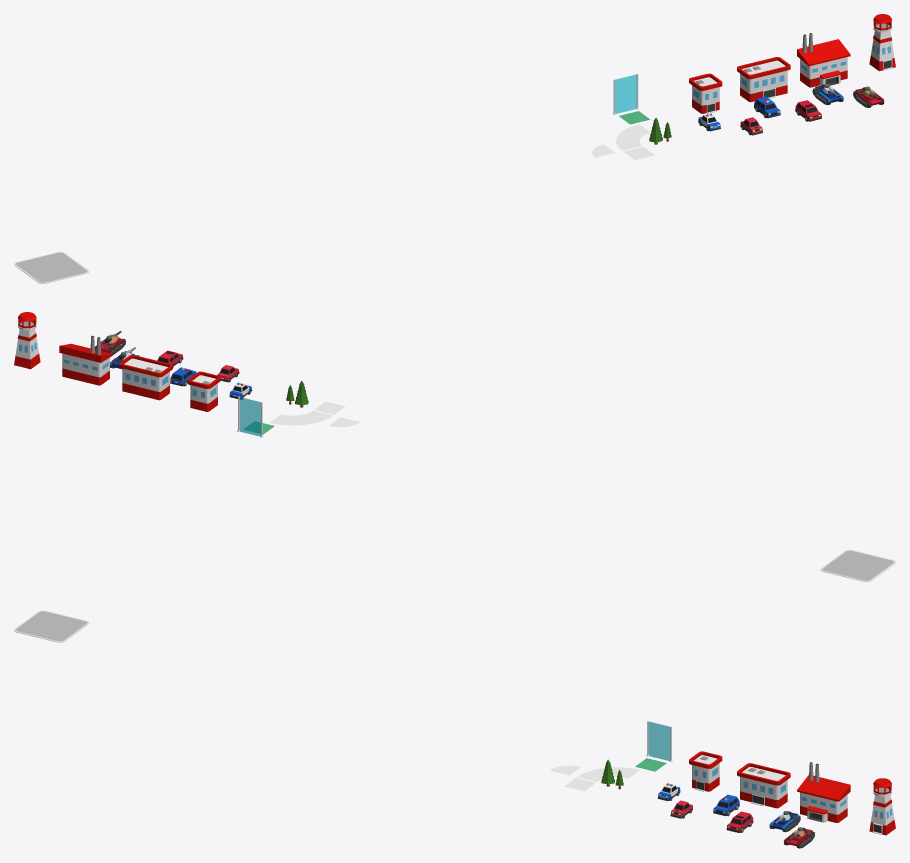
The model's file is Second_Assets.fbx.
3 renders of one model, top to bottom at view 1: azimuth 30°, elevation 25°; view 2: azimuth 150°, elevation 25°; view 3: azimuth 330°, elevation 25°, orthographic.
Parts seen in each view (by area): view 1: Building3, Building2, Base, Building4, Building1, Gate, Road.curve; view 2: Building2, Building3, Base, Building4, Building1, Gate, Road.curve; view 3: Building3, Building2, Base, Building4, Building1, Gate.
Part boxes in pixels (left/top/right/bottom): Building3: left=797, top=33, right=850, bottom=87; Building2: left=737, top=57, right=790, bottom=102; Base: left=14, top=251, right=89, bottom=283; Building4: left=869, top=14, right=895, bottom=71; Building1: left=689, top=73, right=722, bottom=113; Gate: left=613, top=73, right=638, bottom=114; Road.curve: left=616, top=124, right=650, bottom=150; Building2: left=119, top=355, right=172, bottom=400; Building3: left=59, top=335, right=112, bottom=385; Base: left=820, top=549, right=895, bottom=581; Building4: left=14, top=312, right=40, bottom=369; Building1: left=187, top=371, right=220, bottom=411; Gate: left=237, top=396, right=263, bottom=437; Road.curve: left=270, top=411, right=332, bottom=425; Building3: left=797, top=762, right=850, bottom=822; Building2: left=737, top=763, right=790, bottom=808; Base: left=14, top=610, right=89, bottom=642; Building4: left=869, top=778, right=895, bottom=835; Building1: left=689, top=751, right=722, bottom=791; Gate: left=646, top=721, right=672, bottom=761.
Size of the model in its own units: 8552 by 458 by 1072.
